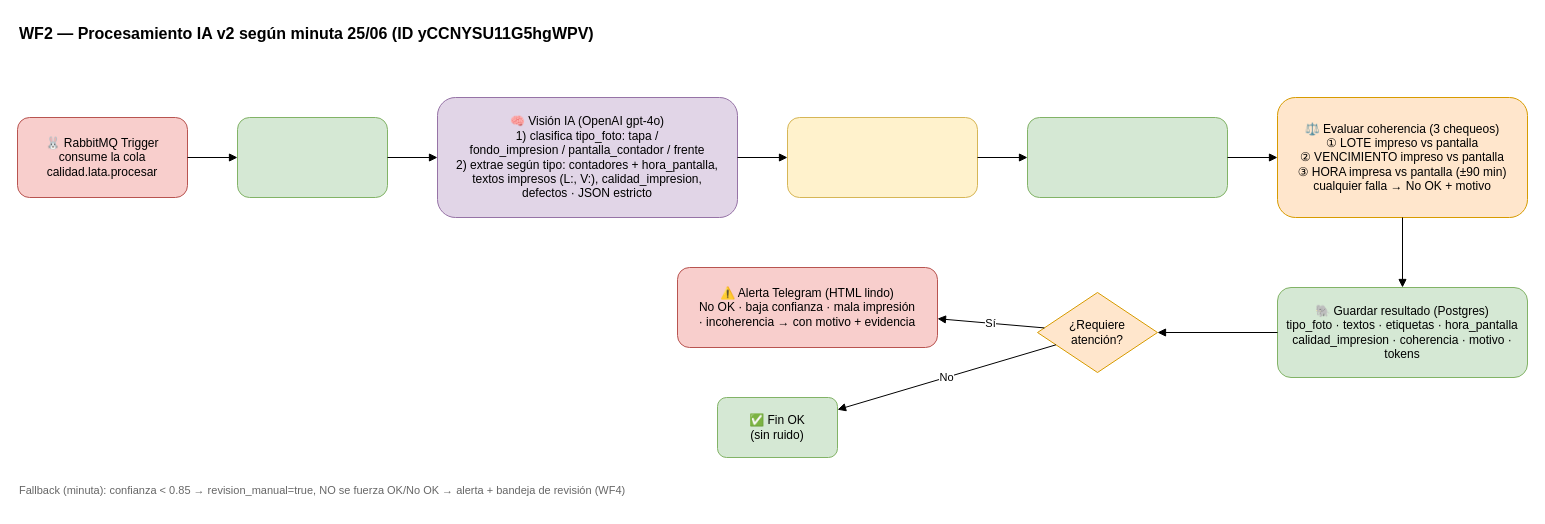
Image size: 1545x524. Some labels were removed from this diagram. Here are the shapes that lost their labels. From the top down, the centre of each, then its label:
(312,157): 🗄 Descargar imagen de MinIO
(882,157): 🔧 Parsear resultado umbral confianza 0.85 tokens (medición de costo)
(1127,157): 🐘 Buscar contador reciente última pantalla_contador de la MISMA línea (±90 min)
